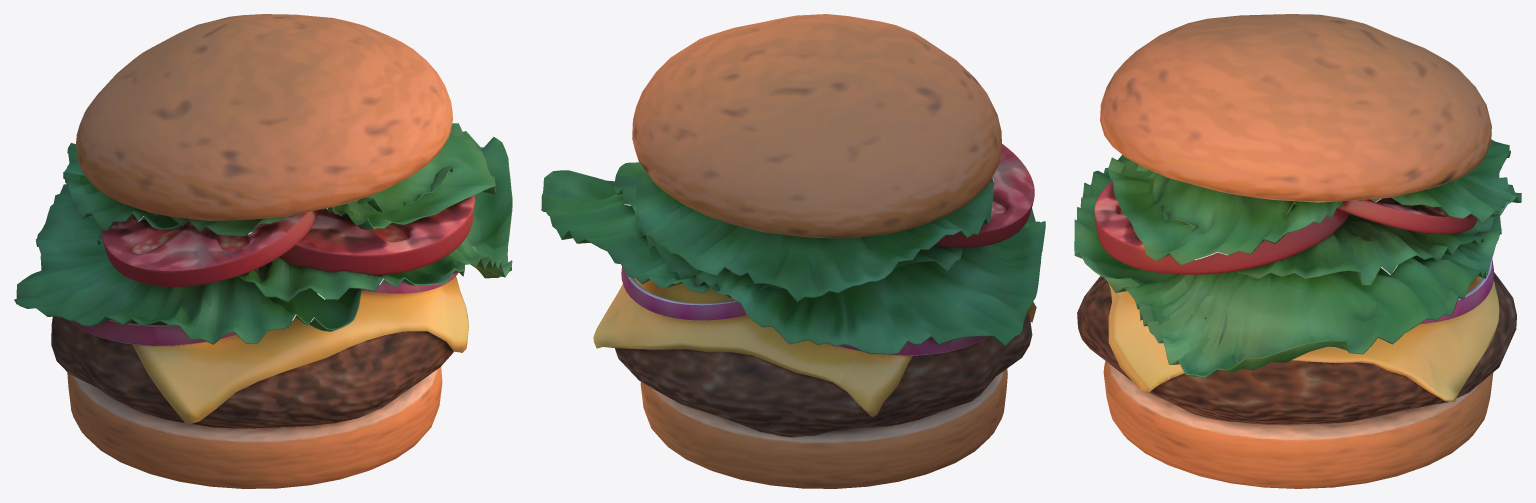
The model's file is hamburger.glb.
3 views of the same model, side by side, from view 1: azimuth 30°, elevation 25°; view 2: azimuth 150°, elevation 25°; view 3: azimuth 270°, elevation 25° (orthographic). The views are drawn at different scales.
Visible parts, largest first — view 1: Hamburger; view 2: Hamburger; view 3: Hamburger.
Part boxes in pixels (bbox=[...]): Hamburger: bbox=[14, 14, 512, 488]; Hamburger: bbox=[541, 14, 1045, 488]; Hamburger: bbox=[1074, 14, 1521, 488].
Size of the model in its own units: 0.9186 by 0.6828 by 0.7142.
Materials: 1 (1 with a texture image).
